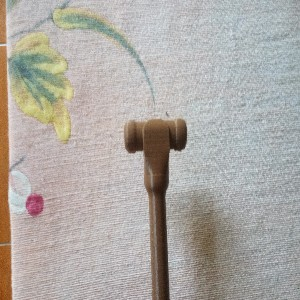palu: (124, 117, 188, 300)
